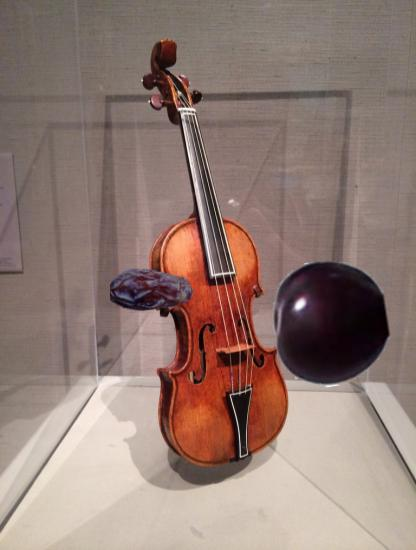Cherry: (268, 260, 394, 386)
Dates: (110, 248, 194, 332)
